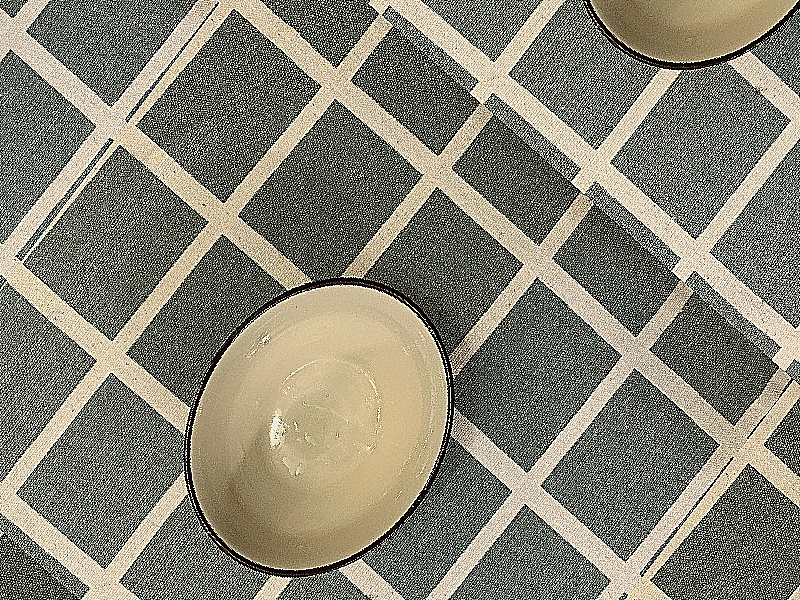bowl_small: (118, 206, 521, 599)
